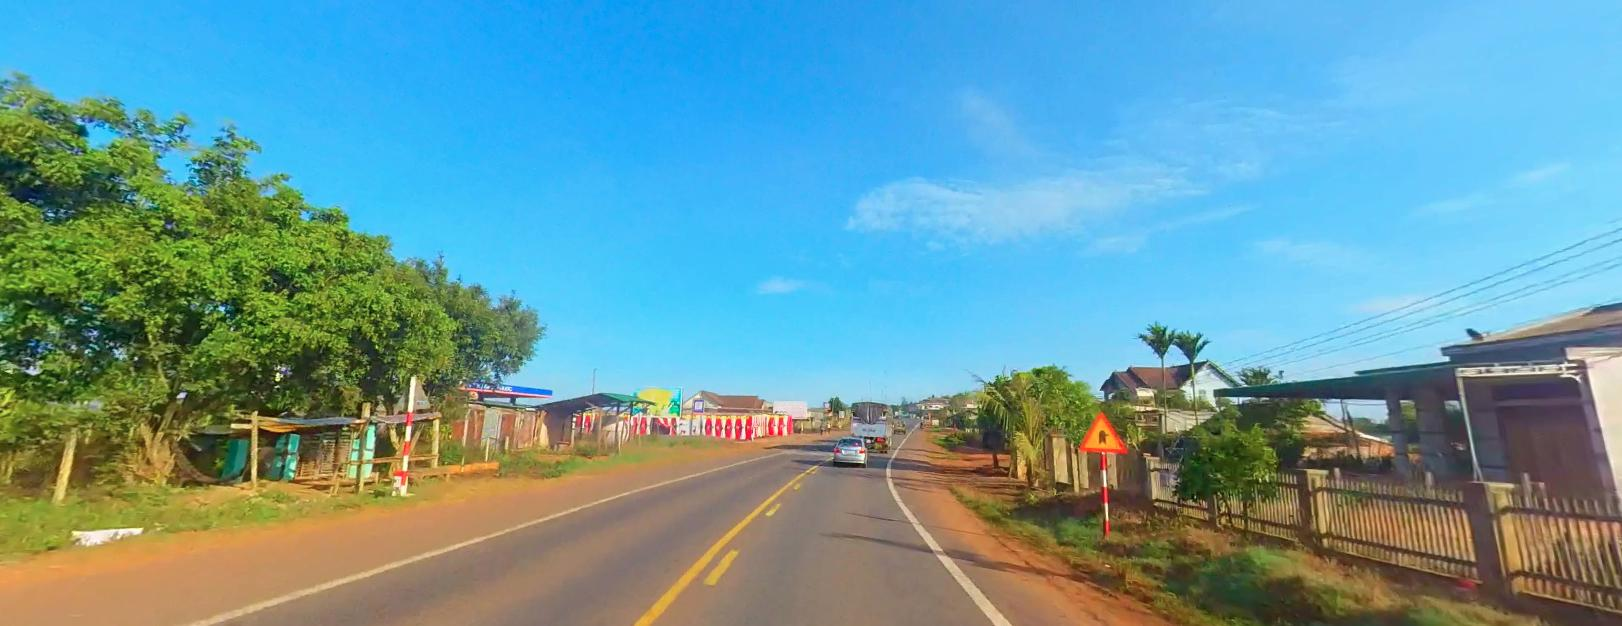Nguy hiem: (1079, 405, 1129, 456)
